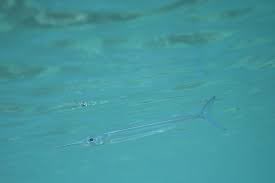sayori: (63, 101, 222, 143)
